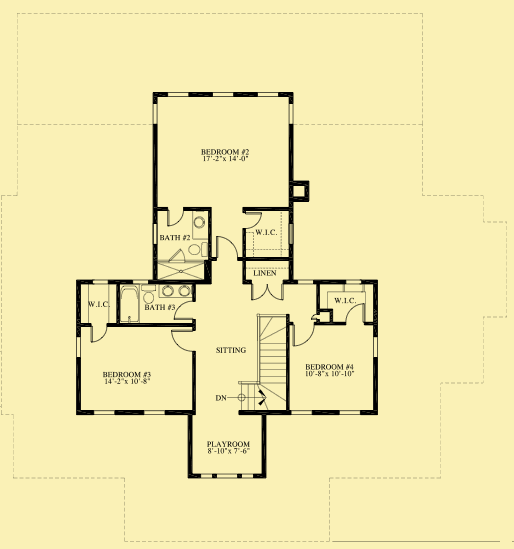door: (168, 326, 197, 354), (249, 281, 285, 301), (213, 234, 239, 260), (290, 323, 316, 349), (343, 302, 370, 326), (242, 209, 267, 231), (171, 299, 194, 322), (88, 321, 106, 345), (167, 206, 186, 227)
large_sink: (139, 280, 158, 305), (185, 241, 207, 258)
small_sink: (157, 285, 194, 300), (192, 210, 208, 238)
stairs: (239, 313, 287, 413)
tub: (119, 283, 139, 323)
window: (197, 471, 258, 482), (284, 101, 296, 125), (337, 407, 362, 418), (149, 101, 157, 127), (373, 333, 380, 359), (75, 335, 81, 360)
